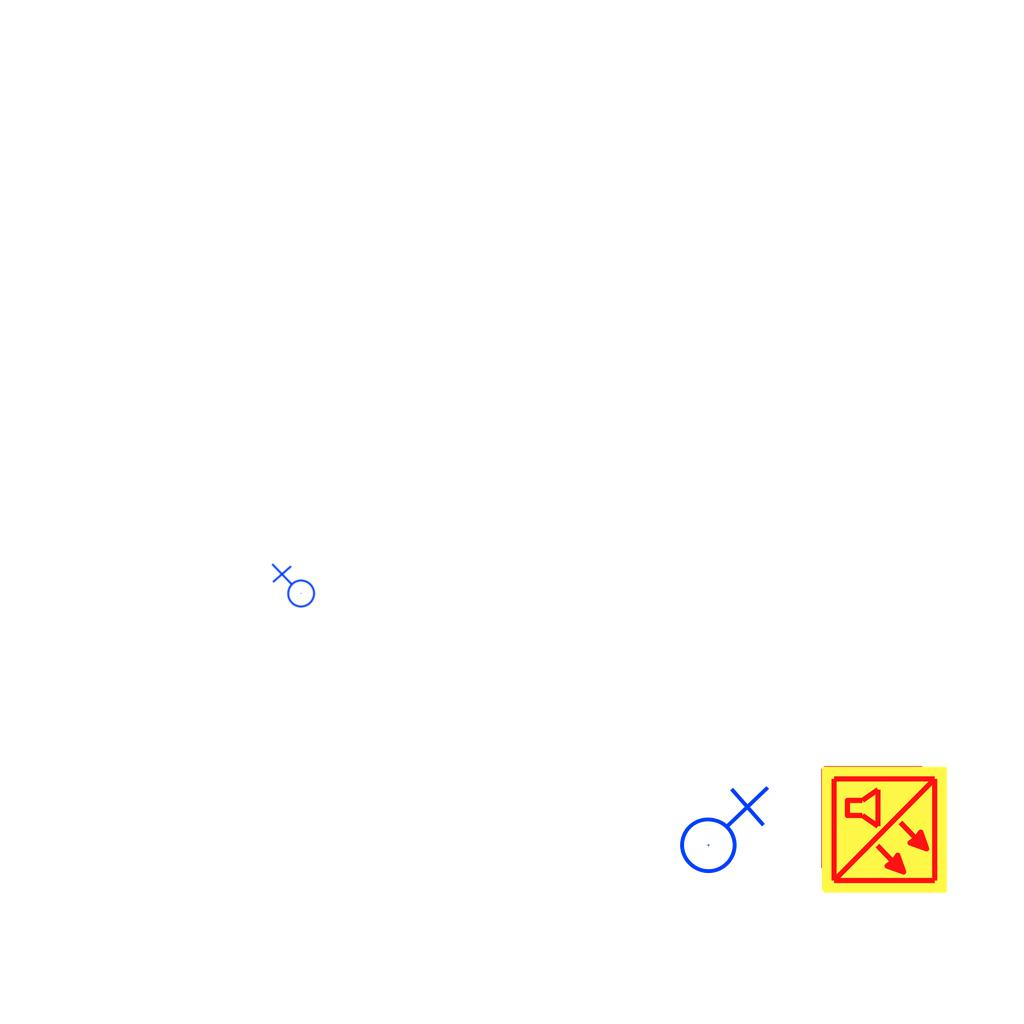Elektroanschluss_allgemein_230V_Geraeteanschlussdose_230V: (671, 781, 770, 875), (269, 563, 316, 612)
OKW_Multisensormelder_(Kombination_optischer_Rauch-Kahlenmonoxid_Waerme-Melder): (818, 764, 950, 896)
